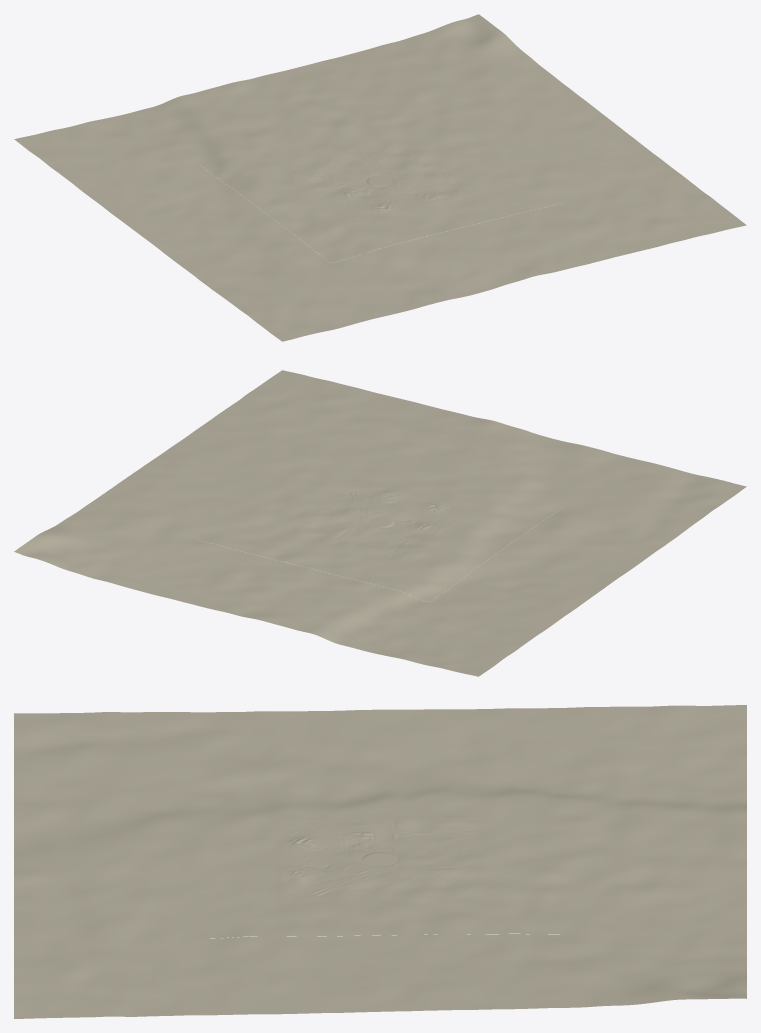
Rendered from terrain.glb.
3 renders of one model, top to bottom at view 1: azimuth 30°, elevation 25°; view 2: azimuth 150°, elevation 25°; view 3: azimuth 270°, elevation 25°, orthographic. The views are drawn at different scales.
Visible parts, largest first — view 1: Outskirts_Far_N, Outskirts_Far_S, Outskirts_Far_E, Outskirts_Far_W, Outskirts_Near_S, Outskirts_Near_N, Outskirts_Near_W, Outskirts_Near_E; view 2: Outskirts_Far_N, Outskirts_Far_S, Outskirts_Far_W, Outskirts_Far_E, Outskirts_Near_N, Outskirts_Near_S, Outskirts_Near_W, Outskirts_Near_E; view 3: Outskirts_Far_S, Outskirts_Far_N, Outskirts_Far_W, Outskirts_Far_E, Outskirts_Near_S, Outskirts_Near_N, Outskirts_Near_E, Outskirts_Near_W.
Boxes of the visible parts, x1,y1,x2,y2 form: Outskirts_Far_N: [14, 14, 545, 190]; Outskirts_Far_S: [215, 173, 746, 341]; Outskirts_Far_E: [430, 70, 679, 202]; Outskirts_Far_W: [81, 163, 330, 291]; Outskirts_Near_S: [298, 176, 563, 262]; Outskirts_Near_N: [197, 101, 462, 187]; Outskirts_Near_W: [231, 170, 355, 237]; Outskirts_Near_E: [405, 126, 529, 191]; Outskirts_Far_N: [14, 509, 545, 676]; Outskirts_Far_S: [215, 370, 746, 534]; Outskirts_Far_W: [430, 506, 679, 629]; Outskirts_Far_E: [81, 416, 330, 539]; Outskirts_Near_N: [197, 516, 462, 601]; Outskirts_Near_S: [298, 445, 563, 529]; Outskirts_Near_W: [405, 512, 529, 577]; Outskirts_Near_E: [231, 468, 355, 530]; Outskirts_Far_S: [14, 712, 197, 1018]; Outskirts_Far_N: [563, 705, 746, 1007]; Outskirts_Far_W: [197, 708, 563, 789]; Outskirts_Far_E: [197, 934, 563, 1015]; Outskirts_Near_S: [197, 787, 288, 938]; Outskirts_Near_N: [472, 786, 563, 934]; Outskirts_Near_E: [289, 896, 471, 936]; Outskirts_Near_W: [289, 786, 471, 822].
Size of the model in its own units: 3200 by 123 by 3200.
